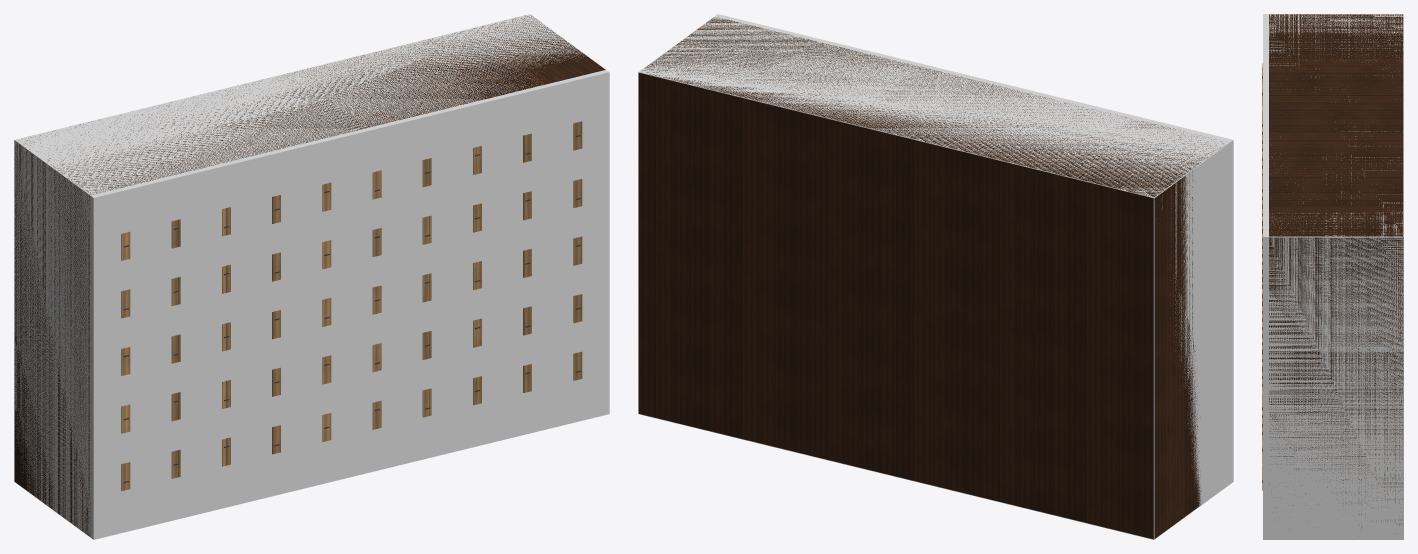
File: shoe_locker.mobile.glb
The picture shows the model from 3 angles, left to right: view 1: azimuth 30°, elevation 25°; view 2: azimuth 150°, elevation 25°; view 3: azimuth 270°, elevation 25°; orthographic projection. The views are drawn at different scales.
Visible parts, largest first — view 1: COL_Locker, ShoeLocker; view 2: ShoeLocker, COL_Locker; view 3: ShoeLocker, COL_Locker.
Part boxes in pixels (left/top/right/bottom): COL_Locker: left=14, top=14, right=609, bottom=539; ShoeLocker: left=14, top=15, right=605, bottom=535; ShoeLocker: left=638, top=17, right=1223, bottom=539; COL_Locker: left=638, top=14, right=1233, bottom=539; ShoeLocker: left=1262, top=14, right=1403, bottom=527; COL_Locker: left=1263, top=14, right=1403, bottom=539.
Size of the model in its own units: 3 by 1.9 by 0.8061.
3 materials, 2 textured.
